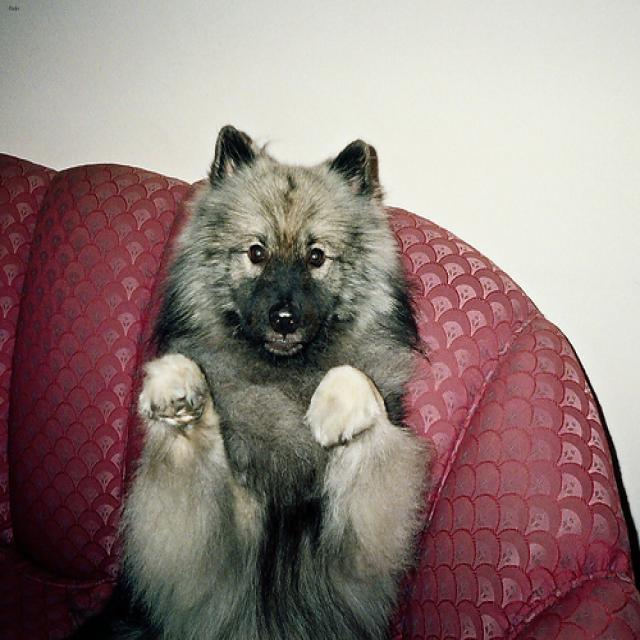dog-keeshond: (54, 116, 447, 637)
